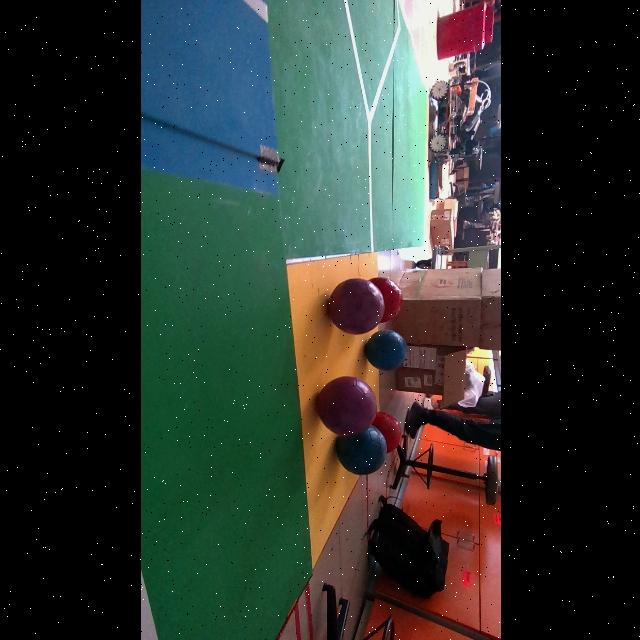B: (336, 426, 386, 475), (365, 329, 407, 371)
P: (316, 376, 376, 436), (327, 278, 383, 333)
R: (369, 278, 401, 323), (372, 412, 400, 453)
